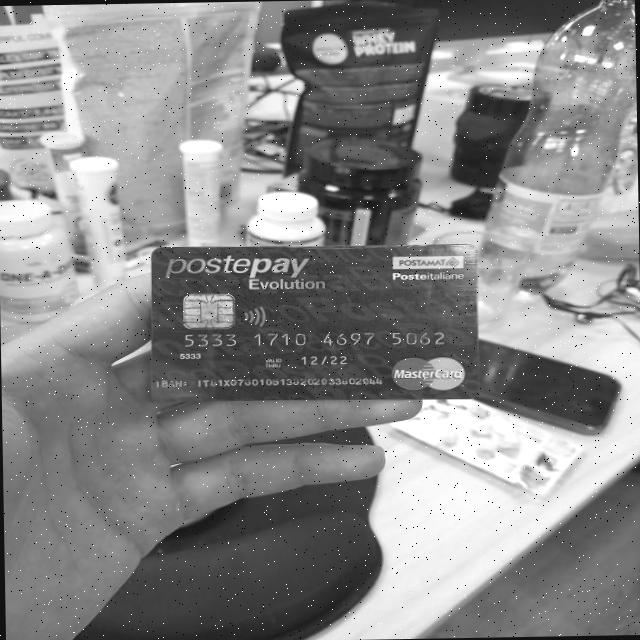card: (146, 231, 488, 401)
